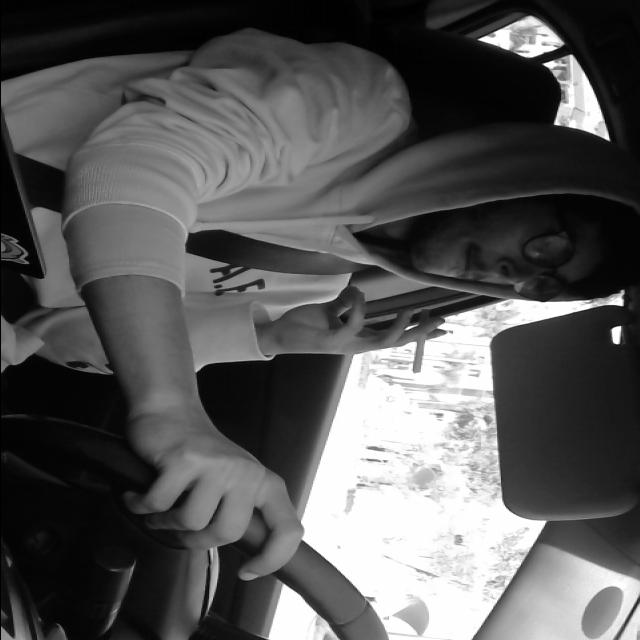smoking: (400, 304, 434, 380)
